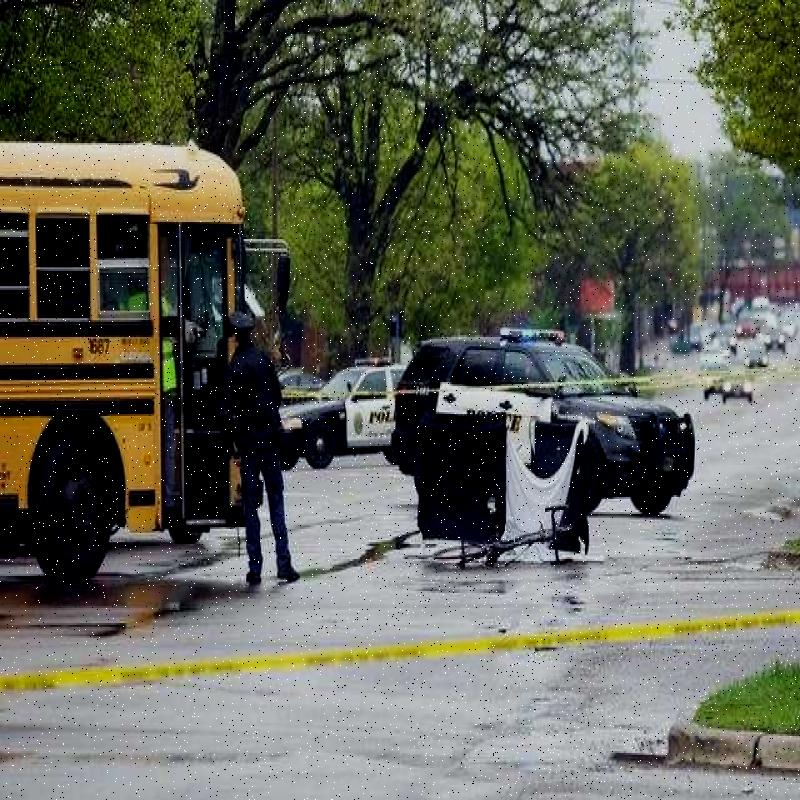bus: (20, 126, 274, 582)
